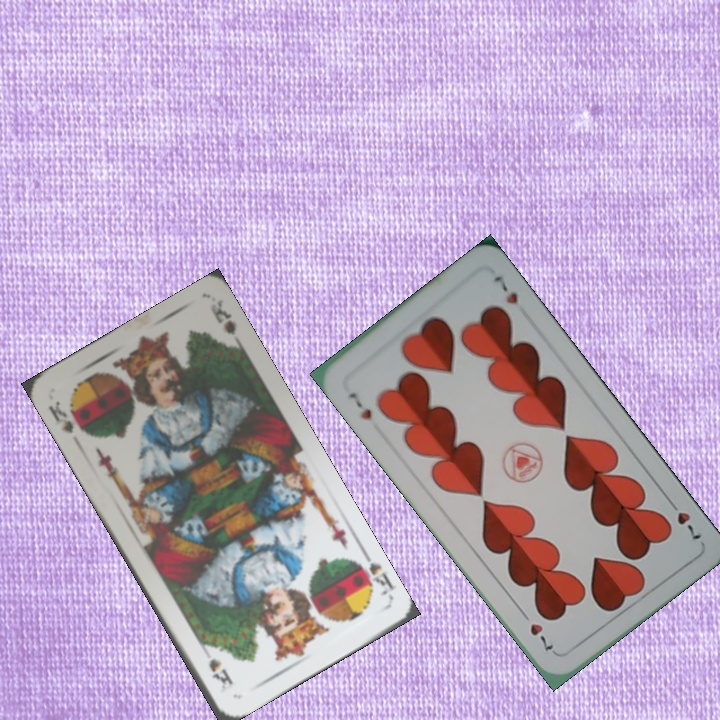H7: (663, 494, 705, 543), (344, 387, 375, 422)
SK: (348, 547, 396, 599), (44, 396, 76, 436)
